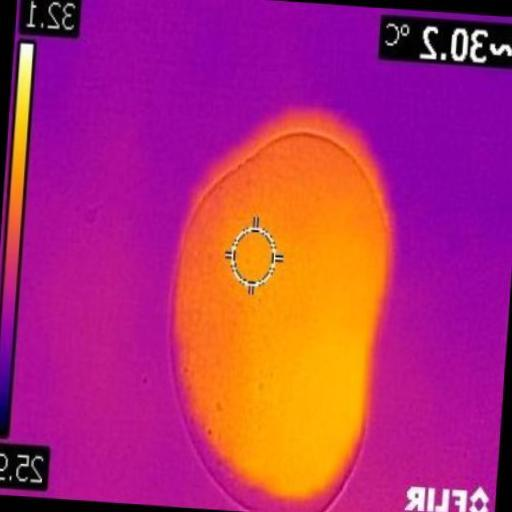alphanso: (172, 135, 392, 509)
